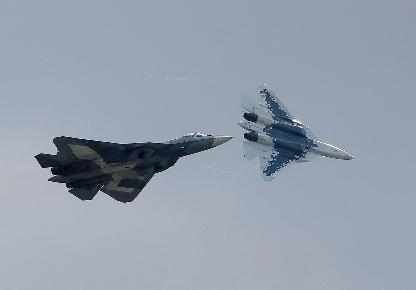SR71: (34, 131, 236, 201), (236, 82, 354, 180)
